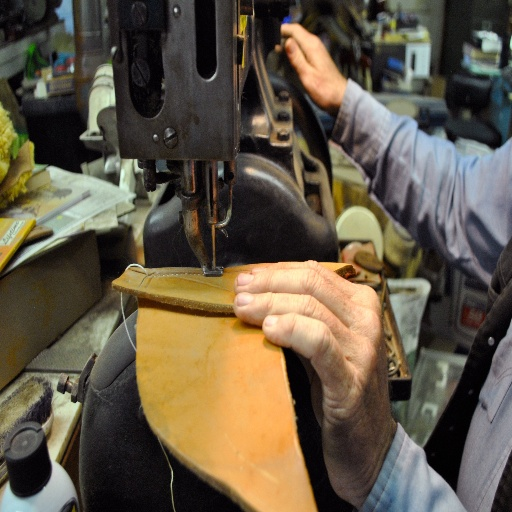hand: (232, 257, 397, 508), (276, 17, 356, 106)
